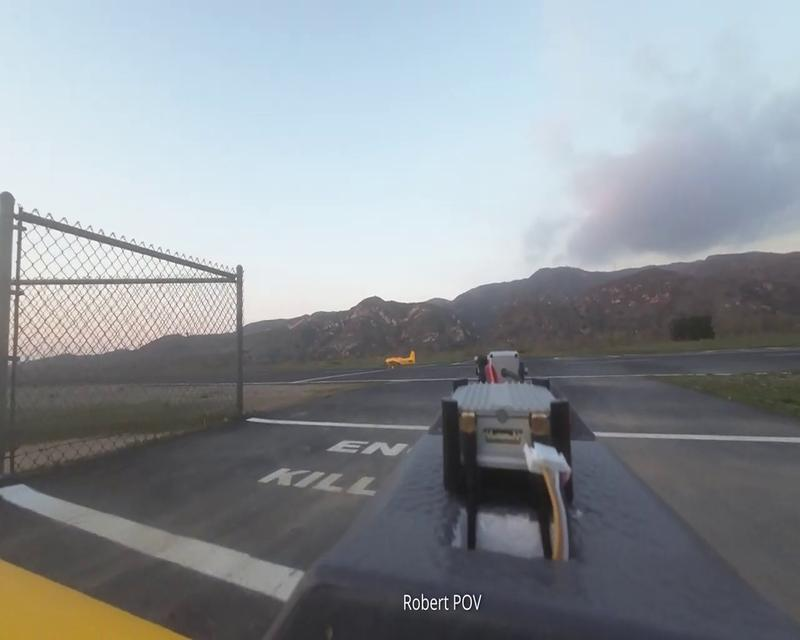UAV: (384, 350, 416, 371)
